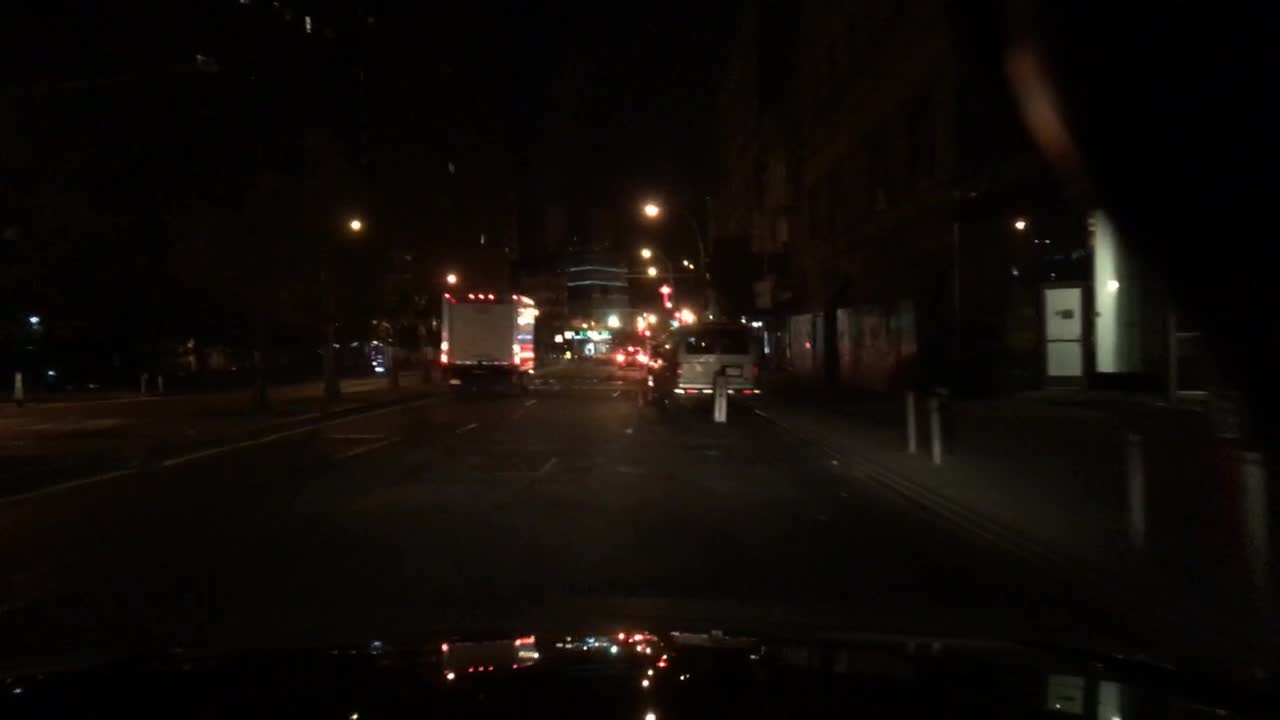car: (654, 319, 759, 422), (318, 320, 393, 373), (614, 344, 646, 368)
traffic light: (660, 282, 670, 299), (644, 327, 650, 337)
truck: (438, 288, 536, 392)
